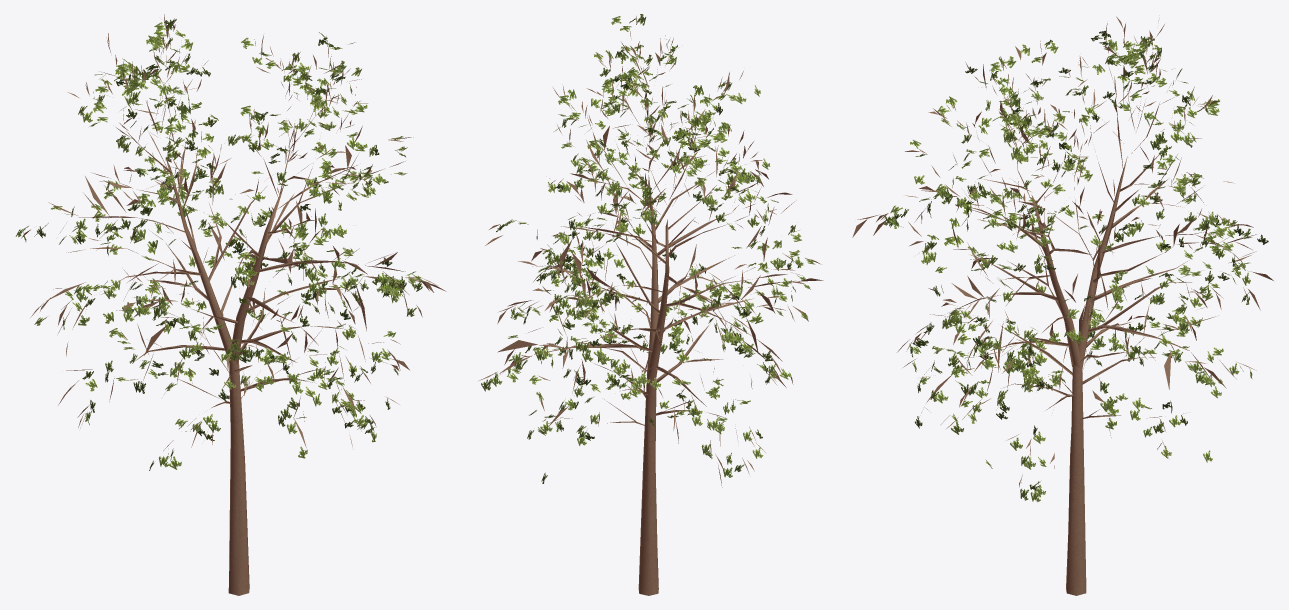
The model's file is roble1.glb.
The picture shows the model from 3 angles, left to right: view 1: azimuth 30°, elevation 25°; view 2: azimuth 150°, elevation 25°; view 3: azimuth 270°, elevation 25°; orthographic projection. The views are drawn at different scales.
Parts seen in each view (by area): view 1: hojas, tronco; view 2: hojas, tronco; view 3: hojas, tronco.
Part boxes in pixels (x1=…): hojas: x1=15, y1=18, x2=429, y2=470; tronco: x1=21, y1=14, x2=446, y2=595; hojas: x1=481, y1=14, x2=815, y2=483; tronco: x1=479, y1=16, x2=823, y2=595; hojas: x1=884, y1=31, x2=1268, y2=502; tronco: x1=852, y1=16, x2=1273, y2=595.
Size of the model in its own units: 10.27 by 16.55 by 11.37.
2 materials, 2 textured.
